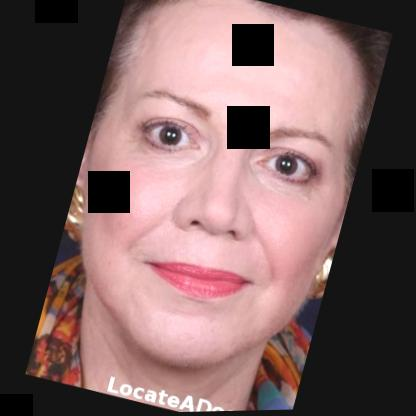Female: (34, 0, 390, 401)
